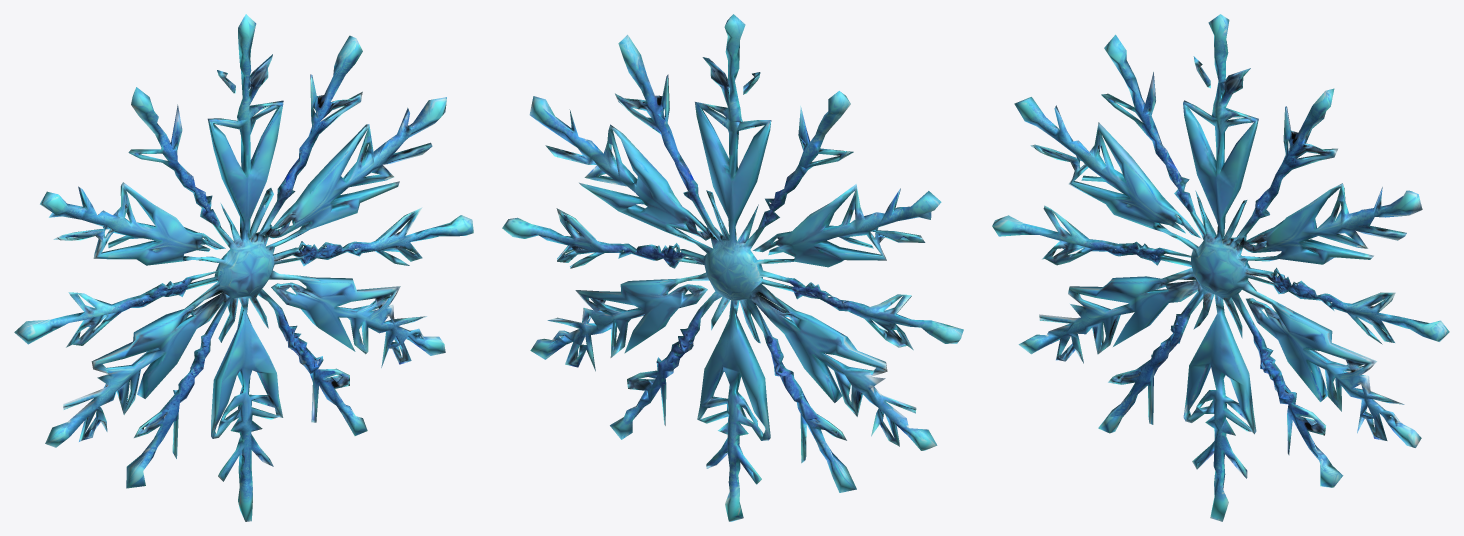
File: Blue_Circle.glb
3 renders of one model, left to right at view 1: azimuth 30°, elevation 25°; view 2: azimuth 150°, elevation 25°; view 3: azimuth 330°, elevation 25°, orthographic.
Size of the model in its own units: 1.89 by 2.01 by 0.102.
Materials: 1 (1 with a texture image).
